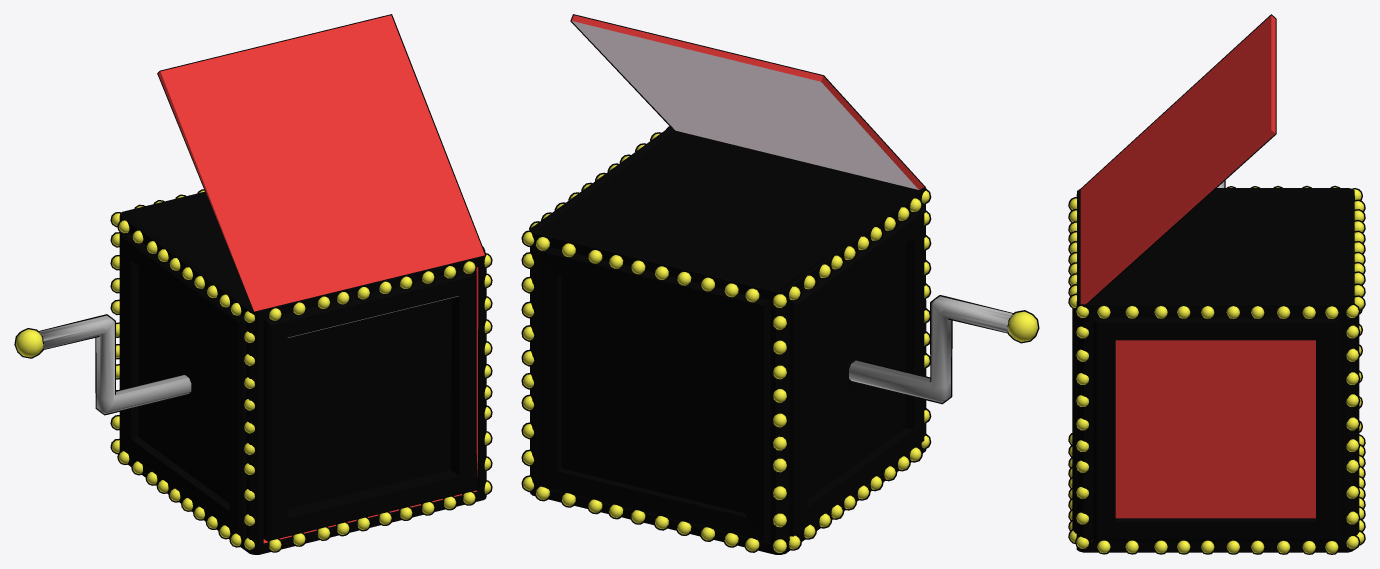
File: jackbox(2).fbx
3 renders of one model, left to right at view 1: azimuth 30°, elevation 25°; view 2: azimuth 150°, elevation 25°; view 3: azimuth 270°, elevation 25°, orthographic. The views are drawn at different scales.
Visible parts, largest first — view 1: Cube, Cube.002, Icosphere.006, Cube.001, Cube.003; view 2: Cube, Cube.003, Cube.002, Icosphere.006, Cube.001; view 3: Cube, Cube.002, Cube.003, Icosphere.006.
Boxes of the visible parts, x1,y1,x2,y2 form: Cube: [119, 191, 486, 554]; Cube.002: [157, 14, 486, 311]; Icosphere.006: [110, 189, 492, 552]; Cube.001: [14, 314, 191, 415]; Cube.003: [128, 195, 252, 308]; Cube: [530, 127, 926, 554]; Cube.003: [539, 131, 917, 288]; Cube.002: [570, 14, 924, 189]; Icosphere.006: [521, 126, 931, 554]; Cube.001: [849, 295, 1039, 404]; Cube: [1072, 188, 1359, 552]; Cube.002: [1080, 14, 1276, 304]; Cube.003: [1088, 191, 1346, 304]; Icosphere.006: [1068, 185, 1365, 554].
Size of the model in its own units: 1068 by 1031 by 656.
